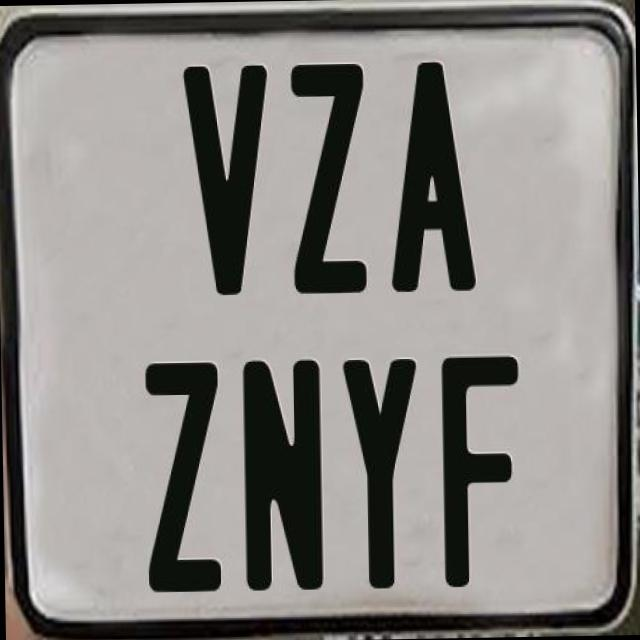A: (386, 61, 478, 293)
F: (441, 350, 528, 585)
N: (240, 356, 322, 592)
V: (182, 60, 277, 300)
Y: (339, 354, 423, 590)
Z: (143, 360, 226, 592), (287, 62, 365, 295)
